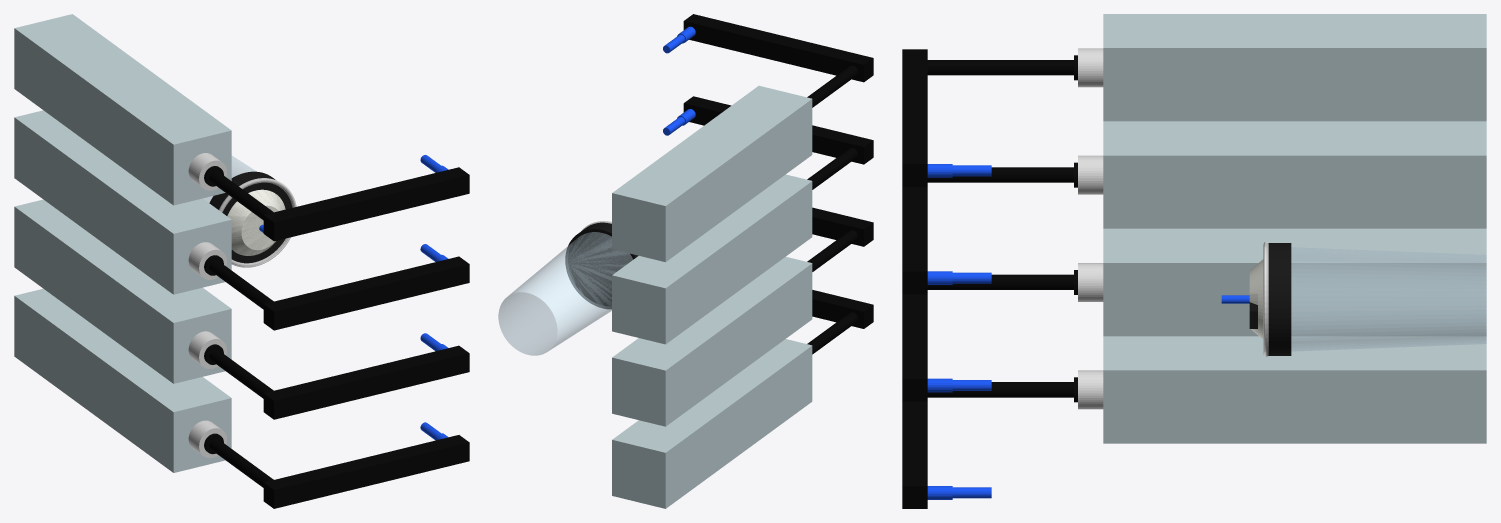
Rendered from azas_tumbler_dispenser_preview.obj.
3 views of the same model, side by side, from view 1: azimuth 30°, elevation 25°; view 2: azimuth 150°, elevation 25°; view 3: azimuth 270°, elevation 25° (orthographic). The views are drawn at different scales.
Parts seen in each view (by area): view 1: azas_tumbler_dispenser_preview; view 2: azas_tumbler_dispenser_preview; view 3: azas_tumbler_dispenser_preview.
Boxes of the visible parts, x1,y1,x2,y2 form: azas_tumbler_dispenser_preview: [14, 14, 469, 508]; azas_tumbler_dispenser_preview: [498, 14, 873, 508]; azas_tumbler_dispenser_preview: [902, 14, 1486, 508].
Size of the model in its own units: 0.212 by 0.313 by 0.419.
